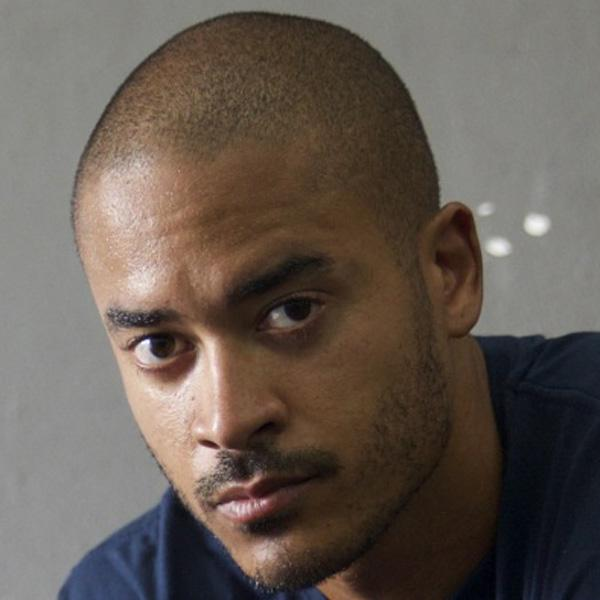Eyes: (252, 282, 342, 346), (116, 324, 201, 380)
